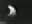person: (7, 5, 18, 19)
